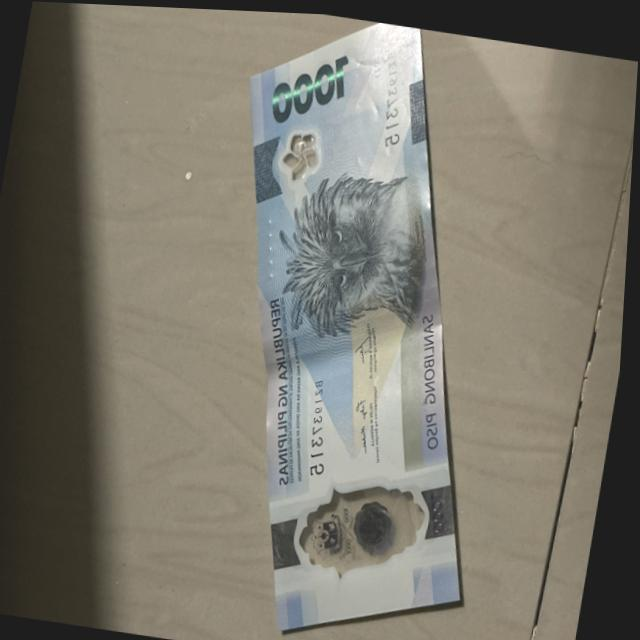clear_window: (289, 462, 451, 576)
eagle: (256, 168, 442, 323)
sampaguita: (279, 116, 330, 184)
serial_number: (290, 370, 344, 497), (371, 41, 415, 155)
value: (262, 43, 350, 122)
